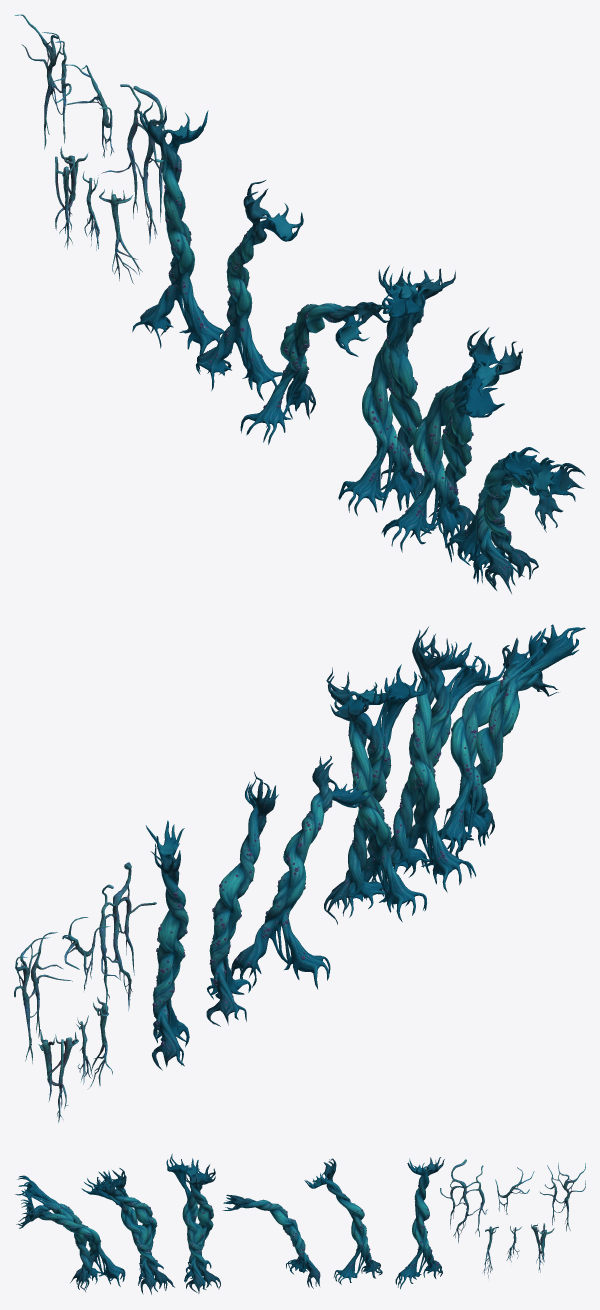
File: lilypad roots.fbx
3 renders of one model, top to bottom at view 1: azimuth 30°, elevation 25°; view 2: azimuth 150°, elevation 25°; view 3: azimuth 270°, elevation 25°, orthographic. The views are drawn at different scales.
Visible parts, largest first — view 1: lilypads_roots_01_b_LOD0, lilypads_roots_01_d_LOD0, lilypads_roots_01_f_LOD0, lilypads_roots_01_a_LOD0, lilypads_roots_01_c_LOD0, lilypads_roots_01_e_LOD0, lillypad_roots_01, lillypad_roots_03, lillypad_roots_06, lillypad_roots_04; view 2: lilypads_roots_01_b_LOD0, lilypads_roots_01_d_LOD0, lilypads_roots_01_f_LOD0, lilypads_roots_01_e_LOD0, lilypads_roots_01_c_LOD0, lilypads_roots_01_a_LOD0, lillypad_roots_01, lillypad_roots_03, lillypad_roots_06; view 3: lilypads_roots_01_f_LOD0, lilypads_roots_01_b_LOD0, lilypads_roots_01_d_LOD0, lilypads_roots_01_c_LOD0, lilypads_roots_01_a_LOD0, lilypads_roots_01_e_LOD0, lillypad_roots_01, lillypad_roots_03, lillypad_roots_06, lillypad_roots_02, lillypad_roots_04.
Part boxes in pixels (x1=…): lilypads_roots_01_b_LOD0: x1=338, y1=265, x2=455, y2=516; lilypads_roots_01_d_LOD0: x1=381, y1=327, x2=522, y2=552; lilypads_roots_01_f_LOD0: x1=446, y1=447, x2=585, y2=593; lilypads_roots_01_a_LOD0: x1=132, y1=101, x2=231, y2=354; lilypads_roots_01_c_LOD0: x1=195, y1=180, x2=303, y2=400; lilypads_roots_01_e_LOD0: x1=240, y1=302, x2=388, y2=444; lillypad_roots_01: x1=101, y1=84, x2=166, y2=244; lillypad_roots_03: x1=14, y1=14, x2=71, y2=149; lillypad_roots_06: x1=55, y1=146, x2=88, y2=249; lillypad_roots_04: x1=99, y1=189, x2=142, y2=283; lilypads_roots_01_b_LOD0: x1=324, y1=664, x2=429, y2=924; lilypads_roots_01_d_LOD0: x1=371, y1=626, x2=505, y2=892; lilypads_roots_01_f_LOD0: x1=437, y1=624, x2=585, y2=857; lilypads_roots_01_e_LOD0: x1=231, y1=755, x2=371, y2=989; lilypads_roots_01_c_LOD0: x1=206, y1=771, x2=278, y2=1026; lilypads_roots_01_a_LOD0: x1=145, y1=820, x2=189, y2=1070; lillypad_roots_01: x1=99, y1=862, x2=156, y2=1010; lillypad_roots_03: x1=14, y1=932, x2=72, y2=1063; lillypad_roots_06: x1=38, y1=1029, x2=78, y2=1123; lilypads_roots_01_f_LOD0: x1=15, y1=1175, x2=125, y2=1291; lilypads_roots_01_b_LOD0: x1=166, y1=1153, x2=220, y2=1293; lilypads_roots_01_d_LOD0: x1=81, y1=1168, x2=174, y2=1294; lilypads_roots_01_c_LOD0: x1=304, y1=1158, x2=382, y2=1284; lilypads_roots_01_a_LOD0: x1=395, y1=1157, x2=444, y2=1289; lilypads_roots_01_e_LOD0: x1=222, y1=1194, x2=320, y2=1288; lillypad_roots_01: x1=440, y1=1159, x2=487, y2=1243; lillypad_roots_03: x1=539, y1=1163, x2=585, y2=1231; lillypad_roots_06: x1=531, y1=1223, x2=554, y2=1272; lillypad_roots_02: x1=495, y1=1167, x2=534, y2=1214; lillypad_roots_04: x1=482, y1=1226, x2=498, y2=1278.
Size of the model in its own units: 10.52 by 22.45 by 90.77.
